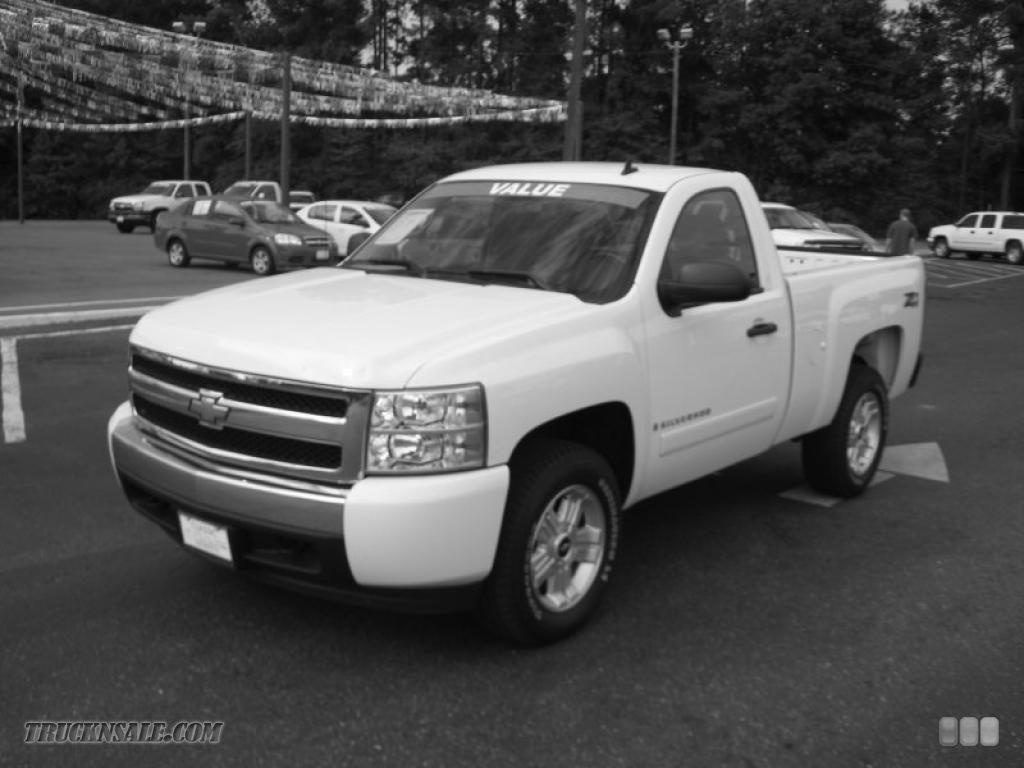car: (107, 151, 932, 656)
